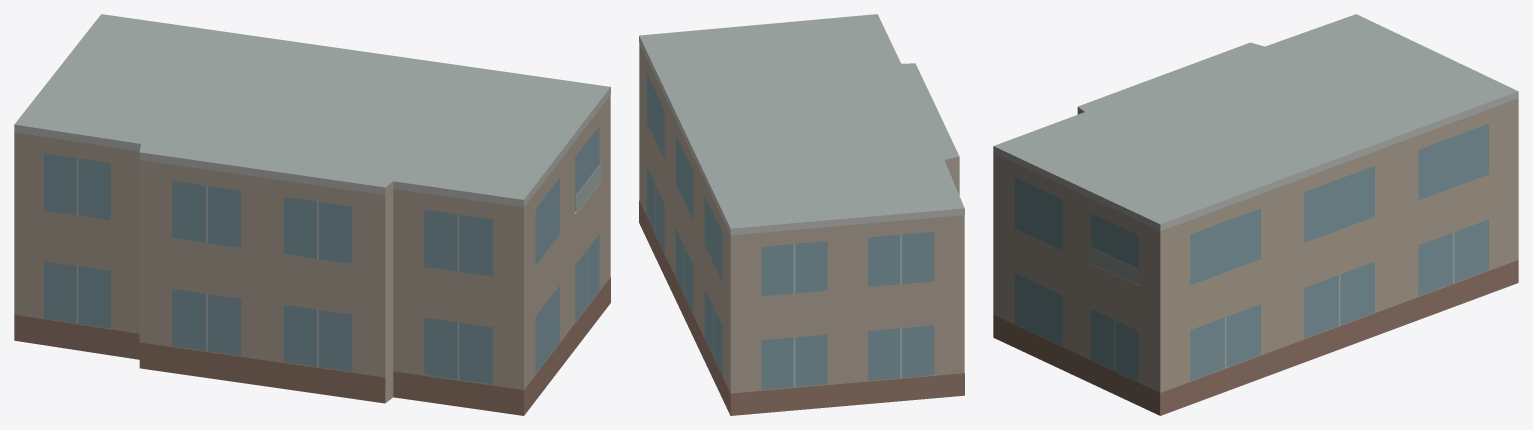
Rendered from survey-upis-32629304.glb.
3 views of the same model, side by side, from view 1: azimuth 30°, elevation 25°; view 2: azimuth 150°, elevation 25°; view 3: azimuth 270°, elevation 25° (orthographic). The views are drawn at different scales.
Visible parts, largest first — view 1: survey-upis-32629304.tmp; view 2: survey-upis-32629304.tmp; view 3: survey-upis-32629304.tmp.
Part boxes in pixels (x1,y1,x2,y2): survey-upis-32629304.tmp: (14,14,610,415); survey-upis-32629304.tmp: (639,14,964,415); survey-upis-32629304.tmp: (993,14,1518,415).
Bounding box in the file's own units: 16.03 × 6.8 × 16.91.
